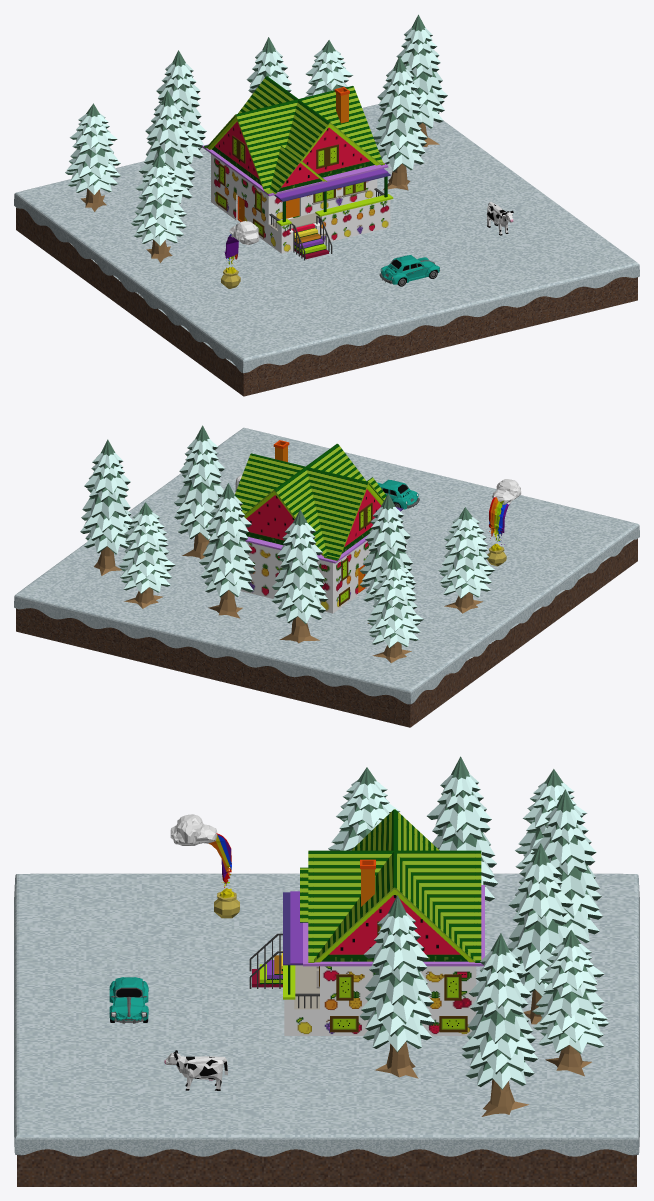
The picture shows the model from 3 angles, top to bottom: view 1: azimuth 30°, elevation 25°; view 2: azimuth 150°, elevation 25°; view 3: azimuth 270°, elevation 25°; orthographic projection. The views are drawn at different scales.
Parts seen in each view (by area): view 1: Cube.003, Cube.1063, VEHICLES_VOLKSWAGEN, OBJRANDOM_RAINBOW, ANIMAL_VACA; view 2: Cube.003, Cube.1063, OBJRANDOM_RAINBOW, VEHICLES_VOLKSWAGEN; view 3: Cube.003, Cube.1063, OBJRANDOM_RAINBOW, VEHICLES_VOLKSWAGEN, ANIMAL_VACA.
Part boxes in pixels (box(x1,y1,x2,y2)): Cube.003: box(14, 14, 639, 396); Cube.1063: box(202, 76, 393, 260); VEHICLES_VOLKSWAGEN: box(379, 255, 440, 286); OBJRANDOM_RAINBOW: box(221, 221, 259, 288); ANIMAL_VACA: box(486, 202, 513, 235); Cube.003: box(14, 425, 639, 727); Cube.1063: box(235, 440, 405, 613); OBJRANDOM_RAINBOW: box(487, 479, 521, 566); VEHICLES_VOLKSWAGEN: box(377, 479, 419, 509); Cube.003: box(14, 756, 639, 1186); Cube.1063: box(249, 809, 484, 1035); OBJRANDOM_RAINBOW: box(170, 814, 239, 918); VEHICLES_VOLKSWAGEN: box(109, 977, 148, 1023); ANIMAL_VACA: box(164, 1050, 227, 1090).
Size of the model in its own units: 4040 by 1670 by 4040.
Materials: 36 (5 with a texture image).
